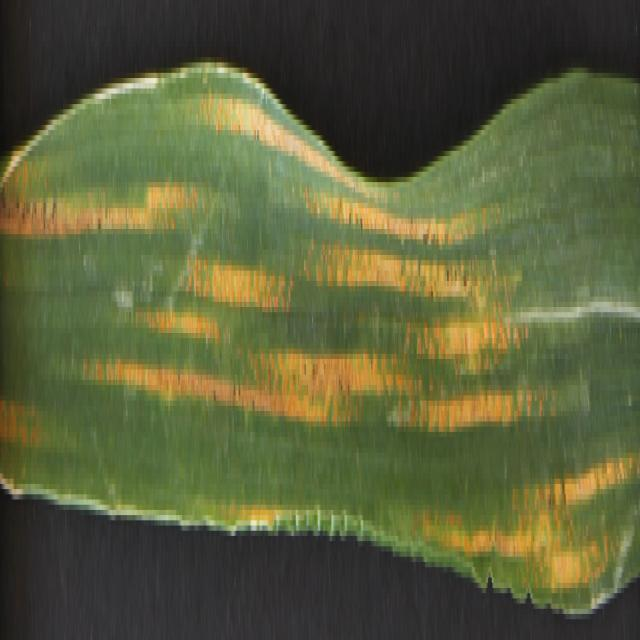leaf rust: (0, 135, 640, 613)
